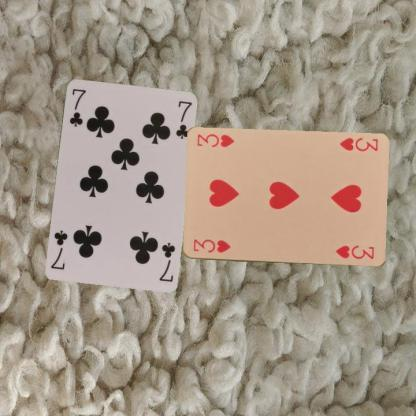3h: (337, 135, 379, 153), (190, 237, 232, 254)
7c: (66, 86, 88, 127), (156, 239, 176, 283)
